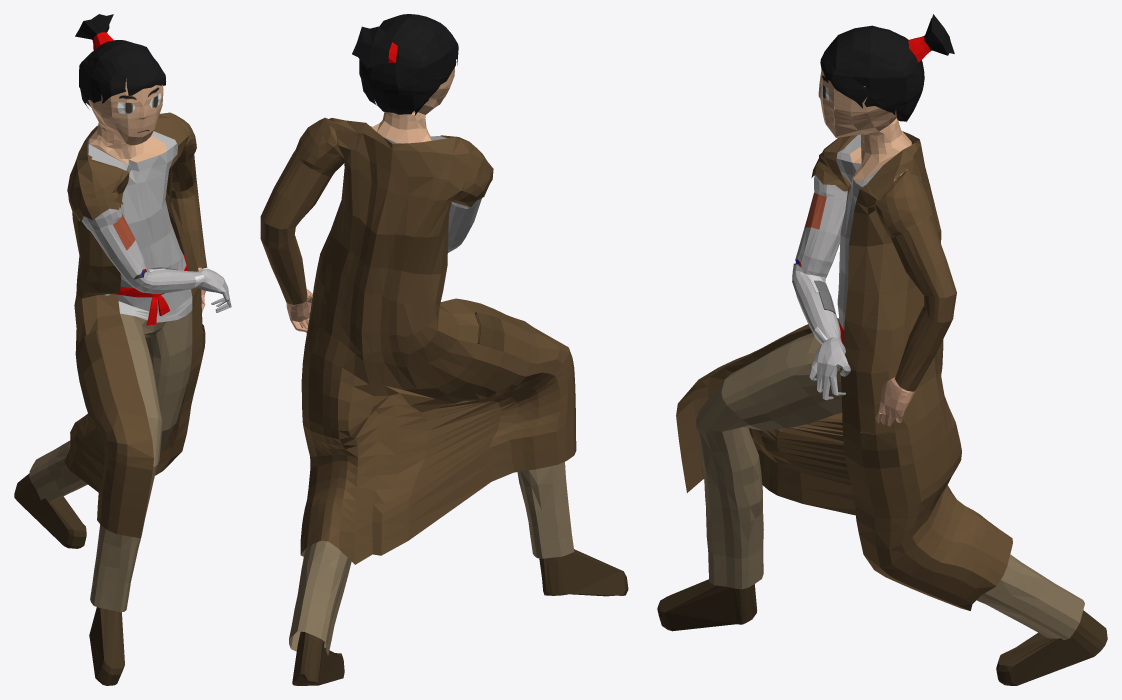
The model's file is One_DL_000009.obj.
The picture shows the model from 3 angles, left to right: view 1: azimuth 30°, elevation 25°; view 2: azimuth 150°, elevation 25°; view 3: azimuth 270°, elevation 25°; orthographic projection. The views are drawn at different scales.
Parts seen in each view (by area): view 1: Hair_Cube.004; view 2: Hair_Cube.004; view 3: Hair_Cube.004.
Boxes of the visible parts, left/top/right/bottom form: Hair_Cube.004: left=14, top=14, right=231, bottom=685; Hair_Cube.004: left=260, top=14, right=628, bottom=685; Hair_Cube.004: left=657, top=14, right=1107, bottom=685.
Bounding box in the file's own units: 1.41 × 3.6 × 2.2.
